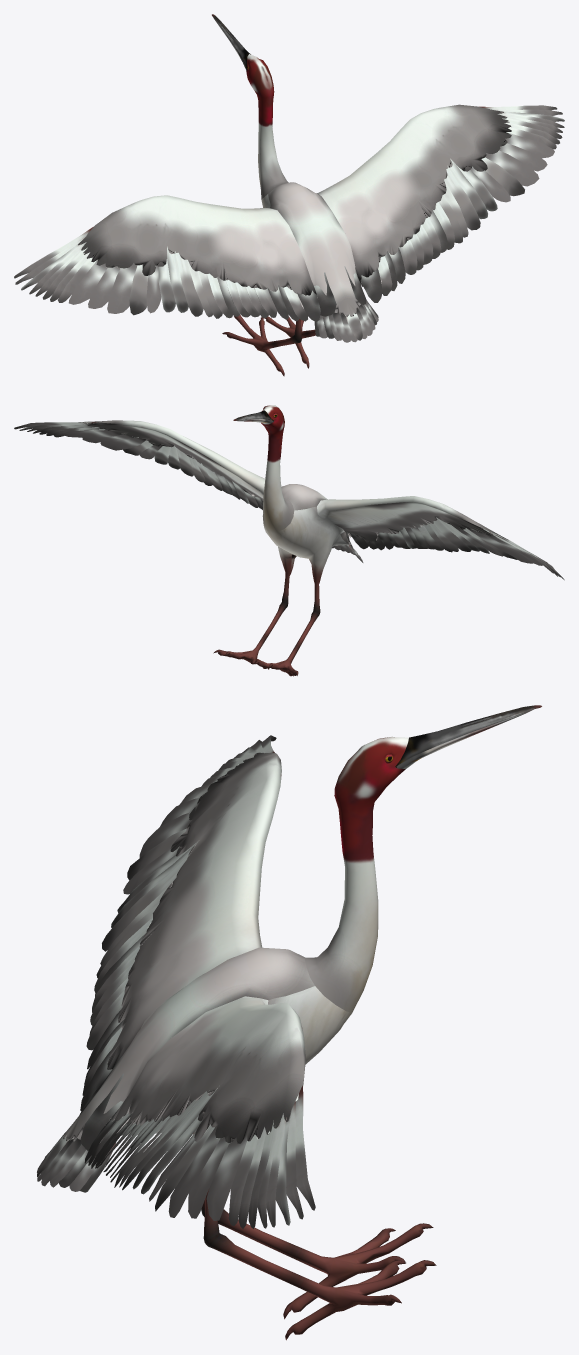
Rendered from Nok-ro.obj.
3 views of the same model, one above another, from view 1: azimuth 30°, elevation 25°; view 2: azimuth 150°, elevation 25°; view 3: azimuth 270°, elevation 25° (orthographic). The views are drawn at different scales.
Visible parts, largest first — view 1: WingL1, WingR1, Body1, Neck1, Tail1, LegL1, LegR1; view 2: WingL1, WingR1, Body1, Neck1, LegR1, LegL1; view 3: WingR1, WingL1, Body1, Neck1, LegR1, LegL1, Tail1, Mouth1.
Boxes of the visible parts, left/top/right/bottom form: WingL1: left=14, top=195, right=336, bottom=321; WingR1: left=317, top=104, right=564, bottom=304; Body1: left=261, top=182, right=360, bottom=316; Neck1: left=246, top=54, right=288, bottom=199; Tail1: left=314, top=300, right=378, bottom=342; LegL1: left=222, top=315, right=301, bottom=376; LegR1: left=264, top=316, right=315, bottom=368; WingL1: left=317, top=496, right=564, bottom=580; WingR1: left=14, top=420, right=265, bottom=509; Body1: left=263, top=484, right=350, bottom=561; Neck1: left=261, top=405, right=294, bottom=531; LegR1: left=213, top=548, right=296, bottom=669; LegL1: left=254, top=558, right=327, bottom=676; WingR1: left=80, top=996, right=315, bottom=1228; WingL1: left=79, top=735, right=281, bottom=1114; Body1: left=63, top=947, right=351, bottom=1141; Neck1: left=305, top=736, right=408, bottom=1012; LegR1: left=193, top=1132, right=436, bottom=1340; LegL1: left=201, top=1200, right=433, bottom=1319; Tail1: left=37, top=1124, right=116, bottom=1192; Mouth1: left=395, top=705, right=541, bottom=769.
Bounding box in the file's own units: 12.95 × 6.99 × 5.26.
1 material, 1 textured.
